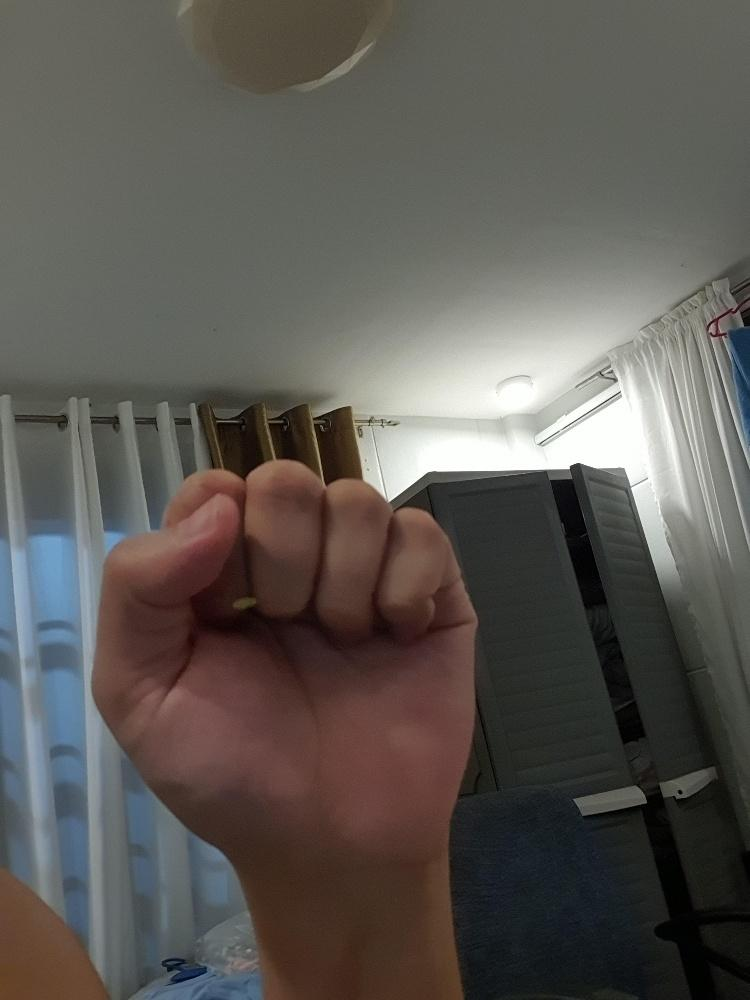s: (84, 451, 481, 870)
